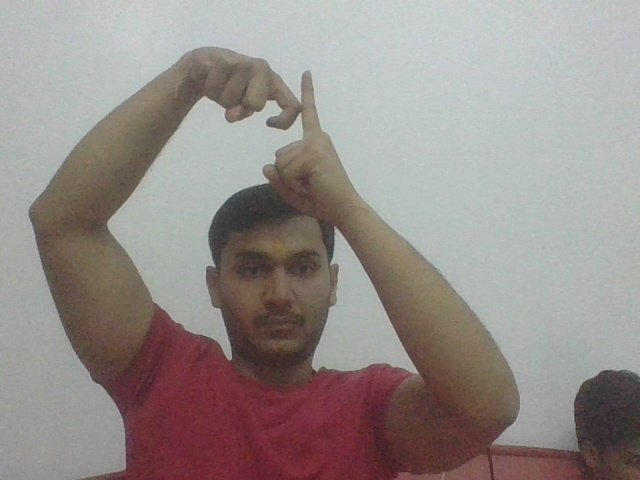K: (256, 59, 331, 152)
